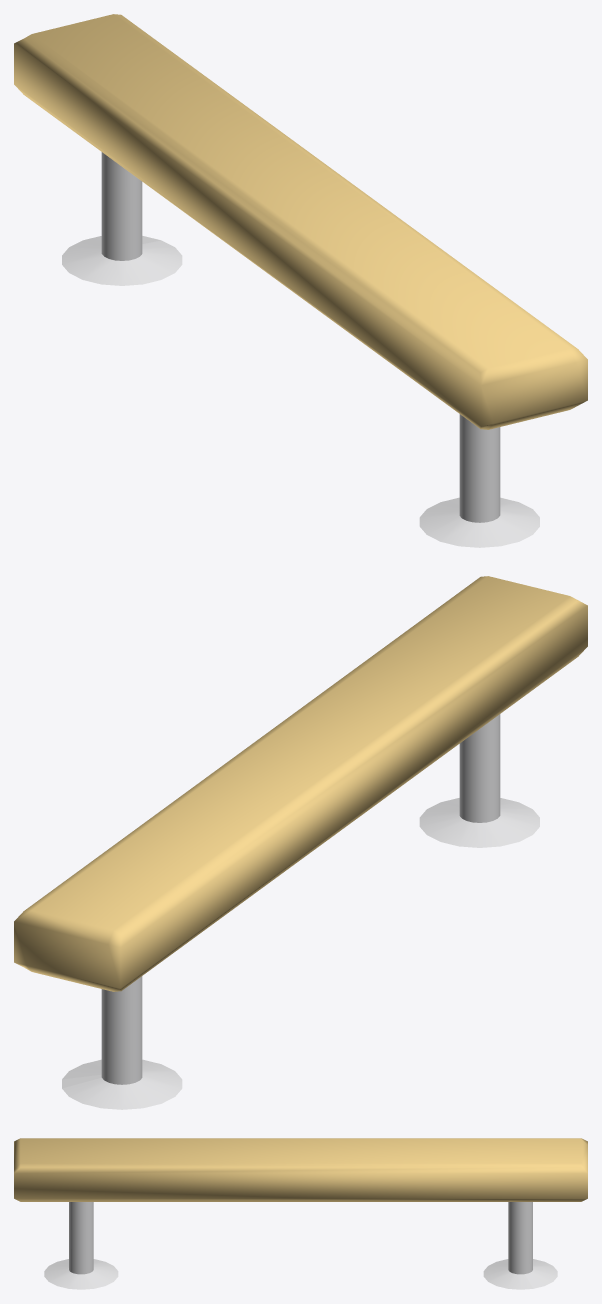
The model's file is Bench.fbx.
The picture shows the model from 3 angles, top to bottom: view 1: azimuth 30°, elevation 25°; view 2: azimuth 150°, elevation 25°; view 3: azimuth 270°, elevation 25°; orthographic projection. The views are drawn at different scales.
Visible parts, largest first — view 1: Bench; view 2: Bench; view 3: Bench.
Part boxes in pixels (bbox=[...]): Bench: bbox=[14, 14, 587, 547]; Bench: bbox=[14, 576, 587, 1109]; Bench: bbox=[14, 1138, 587, 1289].
Bounding box in the file's own units: 24.1 × 183 × 43.16.
